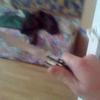melee: (1, 31, 62, 66)
